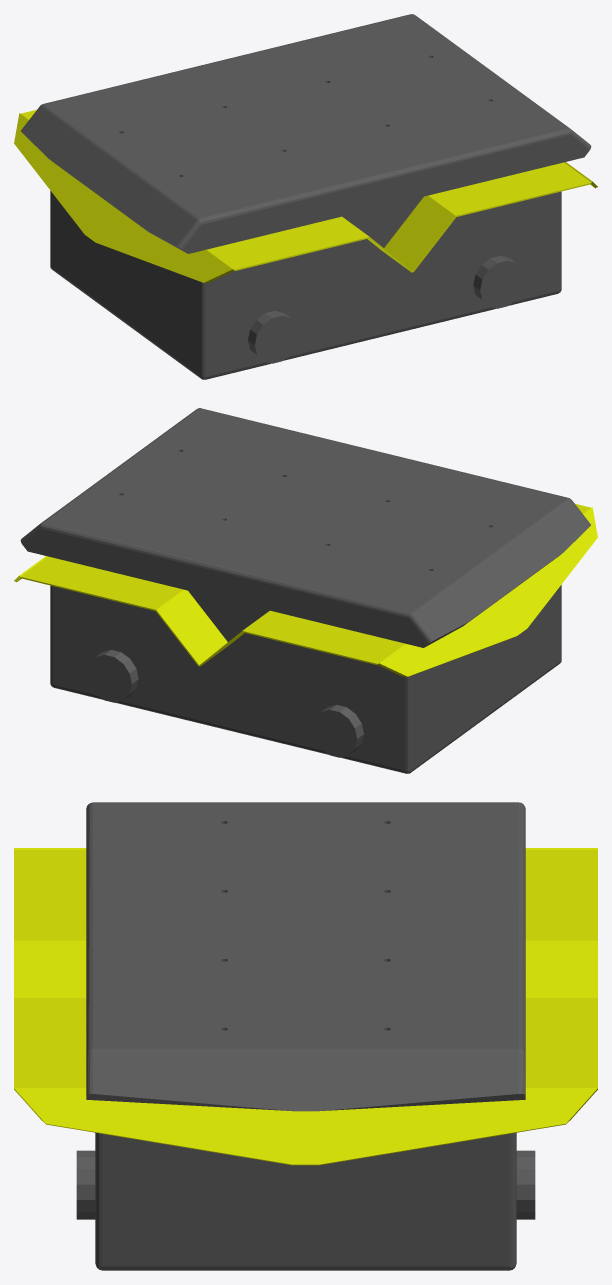
Rendered from jackal.dae.
3 renders of one model, top to bottom at view 1: azimuth 30°, elevation 25°; view 2: azimuth 150°, elevation 25°; view 3: azimuth 270°, elevation 25°, orthographic. The views are drawn at different scales.
Parts seen in each view (by area): view 1: Jackal-Base, Jackal-Fenders; view 2: Jackal-Base, Jackal-Fenders; view 3: Jackal-Base, Jackal-Fenders.
Part boxes in pixels (<box>): Jackal-Base: <box>21,14,591,379</box>; Jackal-Fenders: <box>14,109,597,283</box>; Jackal-Base: <box>20,408,590,773</box>; Jackal-Fenders: <box>14,503,597,677</box>; Jackal-Base: <box>76,802,535,1270</box>; Jackal-Fenders: <box>14,848,597,1165</box>.
Size of the model in its own units: 0.5031 by 0.43 by 0.184.
